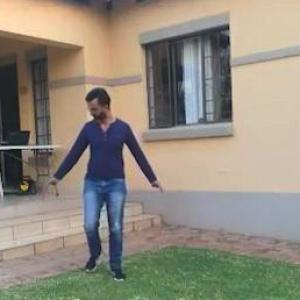land: (38, 72, 174, 293)
